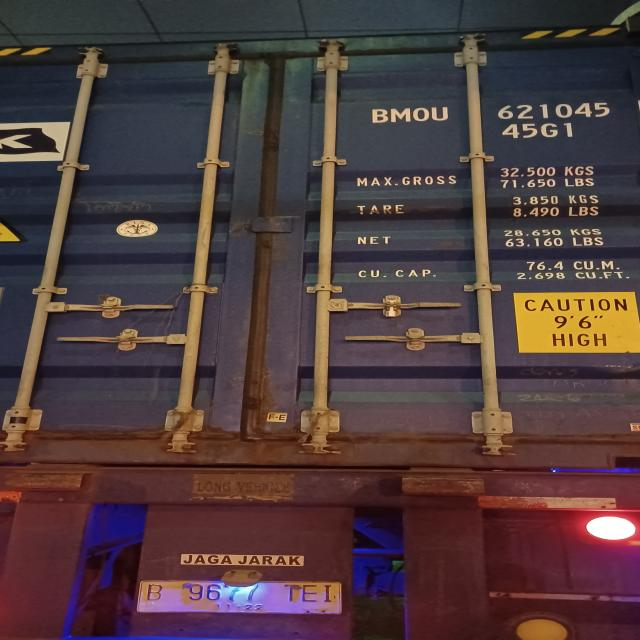seal: (380, 298, 402, 319)
